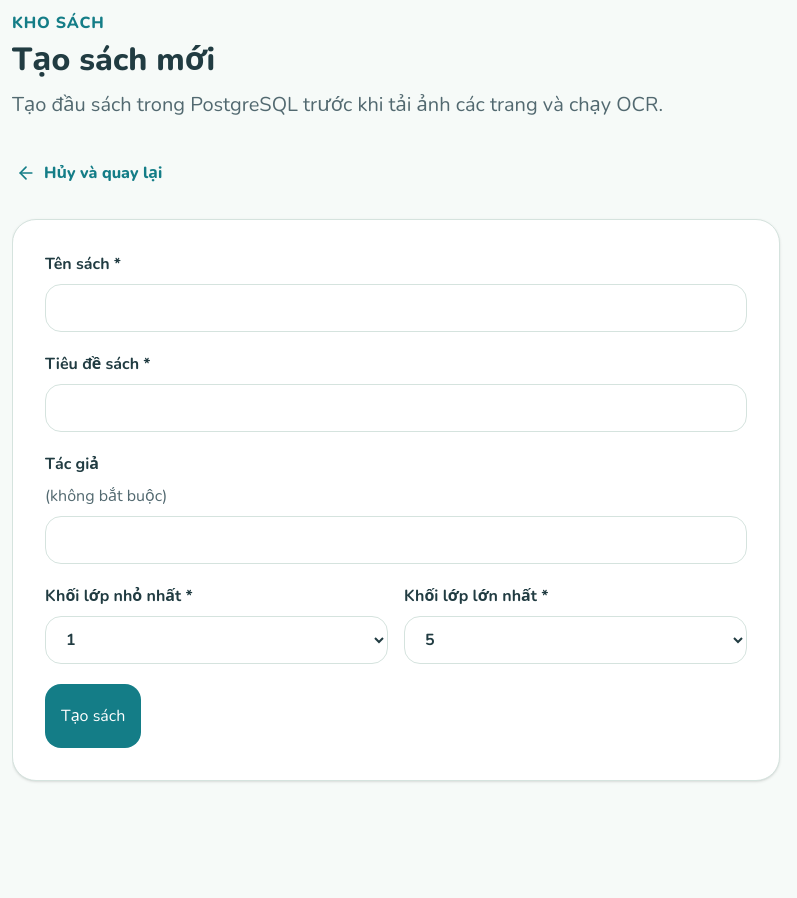
Test: AdminNewBookScreen › preserves values and shows a safe error on API failure
Type "Tên chưa được tạo" into the field labelled "Tên sách *" at [396, 308], box [45,284,747,332]
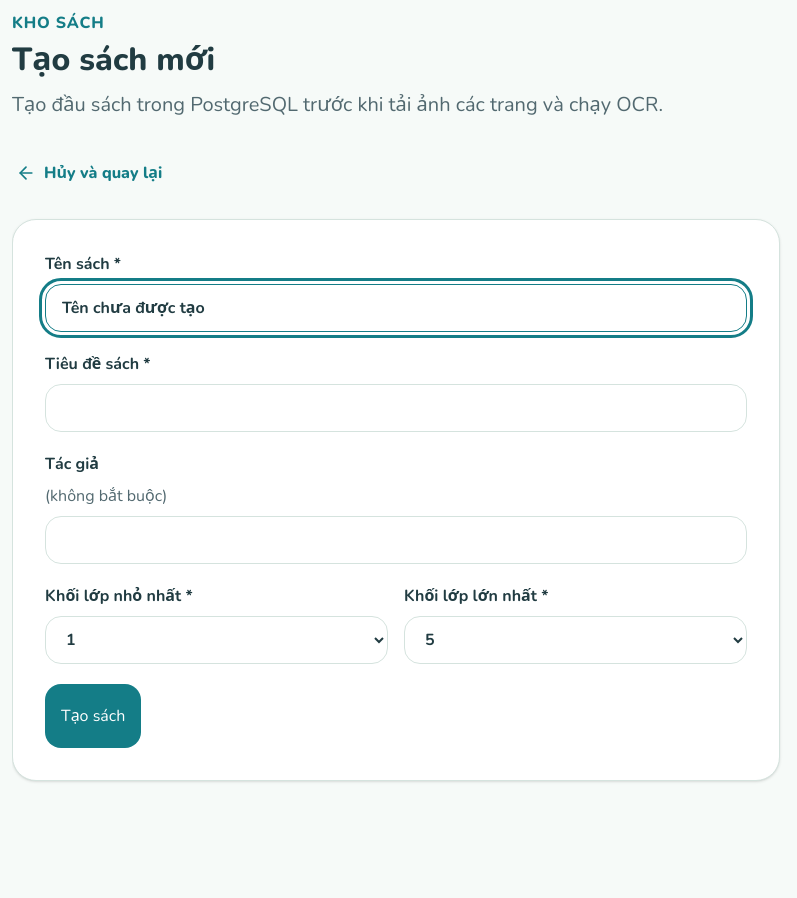
Type "Sách chưa được tạo" into the field labelled "Tiêu đề sách *" at [396, 408], box [45,384,747,432]
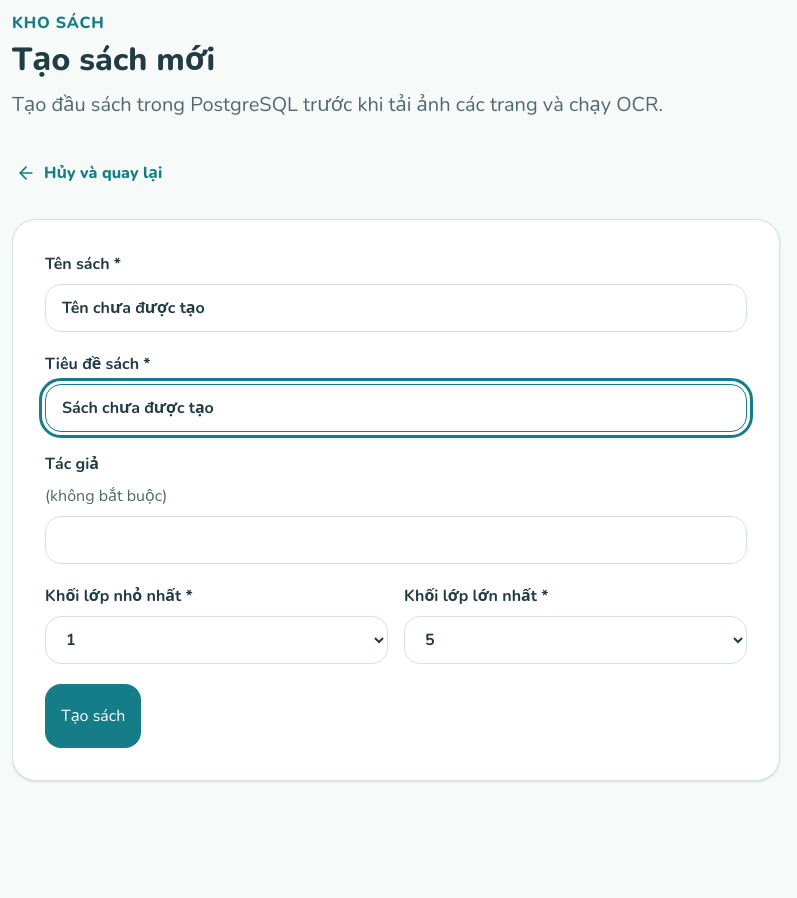
Click the button "Tạo sách" at [93, 716], box [45,684,141,748]
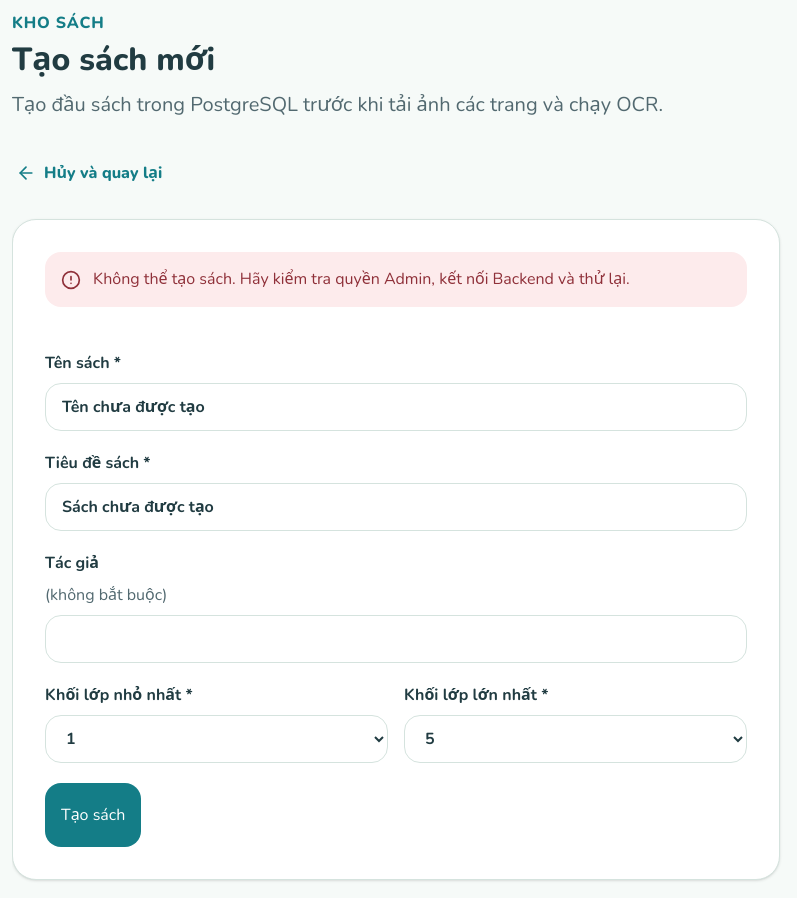
Check: the field labelled "Tác giả (không bắt buộc)" is empty, box [45,615,747,663]
Check: the text "Không thể tạo sách. Hãy kiểm tra quyền Admin, kết nối Backend và thử lại." is shown, box [93,268,630,291]
